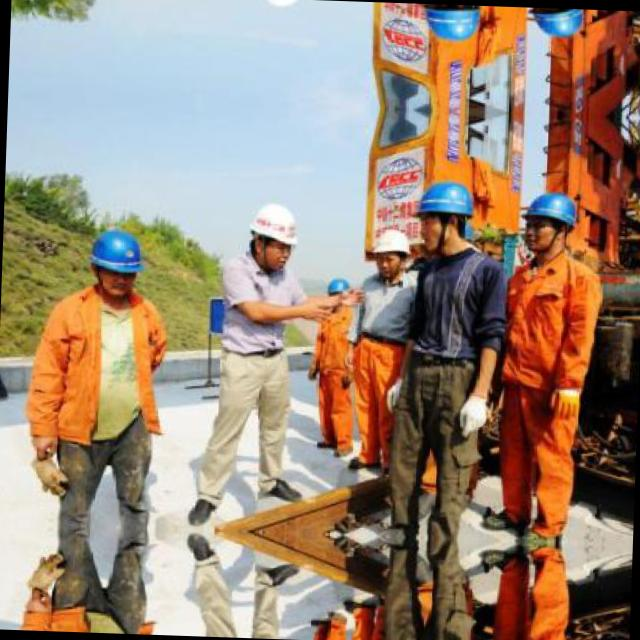helmet: (408, 176, 478, 254), (242, 193, 300, 273), (86, 223, 146, 300), (516, 186, 580, 256), (416, 3, 486, 48), (367, 224, 413, 278), (524, 7, 588, 43), (322, 272, 352, 308), (250, 0, 308, 16)
